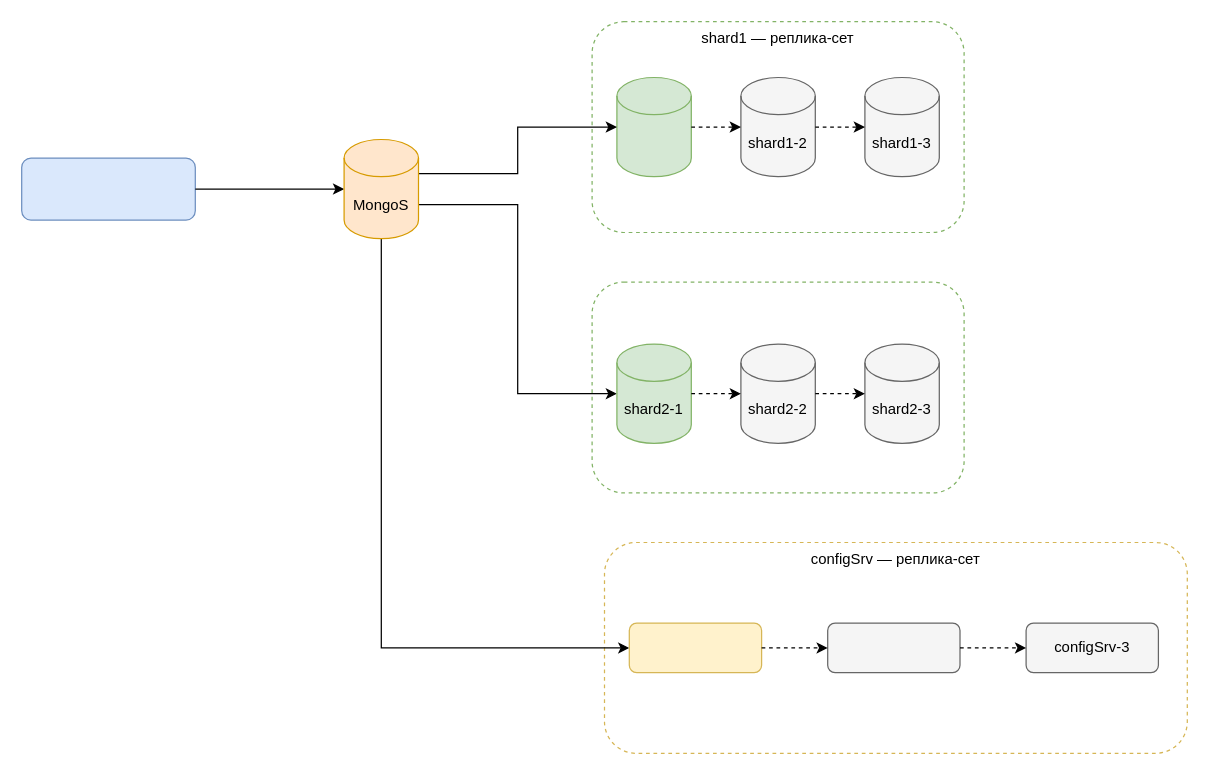
Image size: 1209x775. Some labels were removed from this diagram. The box of each missing label's shape, as (x1, y1, x2, y2) in pixels:
configSrv-1: (628, 622, 762, 673)
configSrv-2: (826, 622, 960, 673)
pymongo-api: (20, 157, 195, 220)
shard1-1: (616, 76, 691, 177)
shard2 — реплика-сет: (591, 281, 964, 493)
